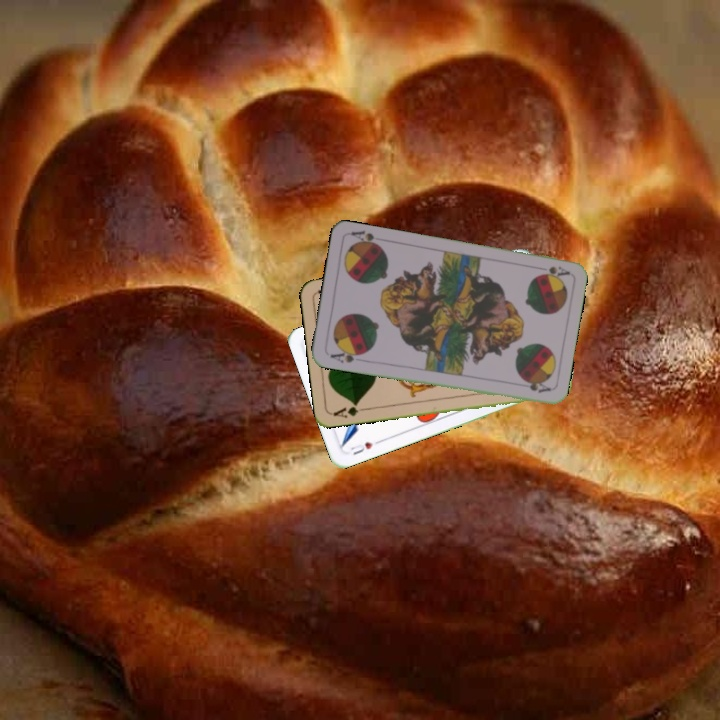GA: (329, 399, 370, 421)
HU: (346, 436, 383, 458)
SA: (326, 346, 367, 365), (531, 262, 572, 281)
